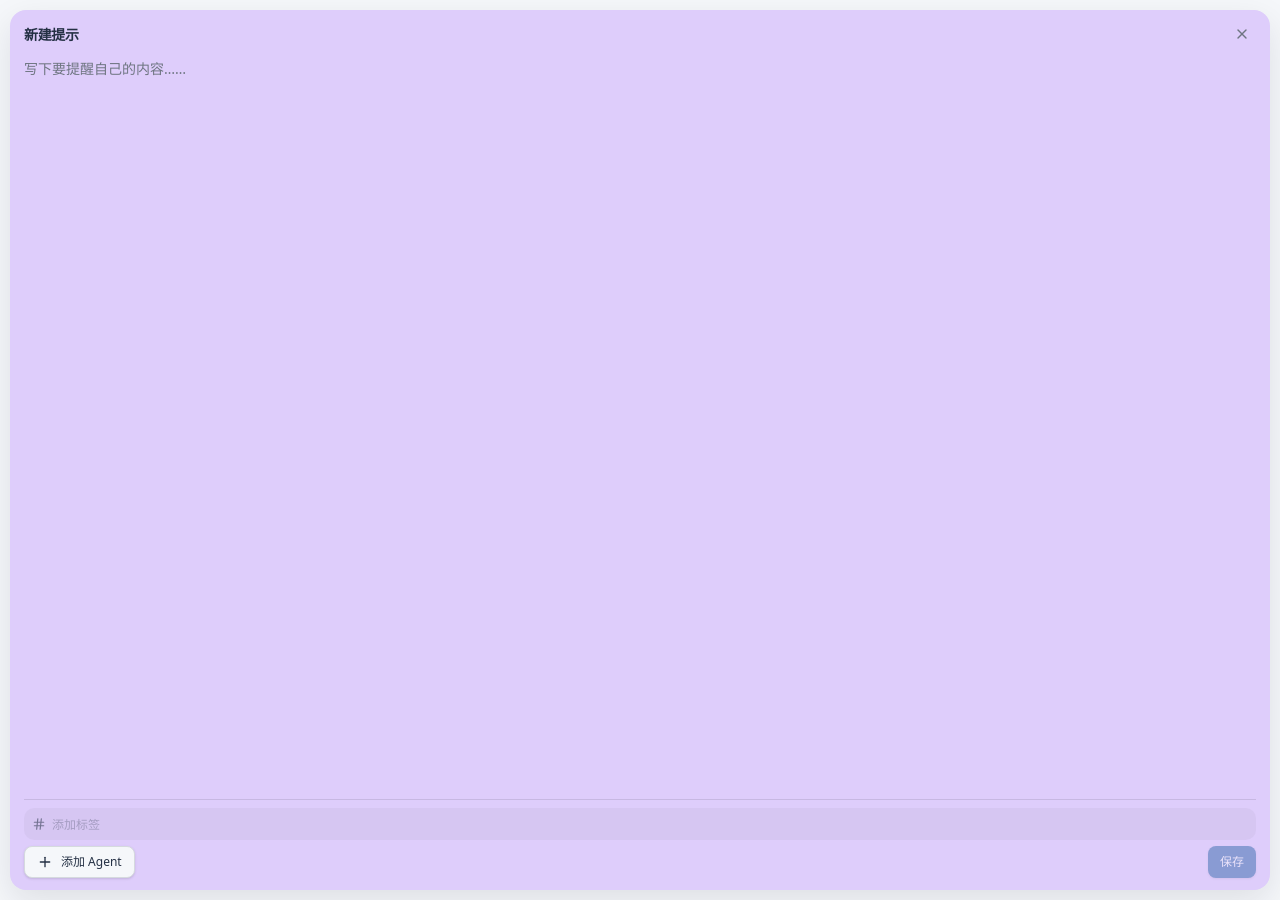
Test: 快捷新建窗口 › disabled_agents_are_not_offered_for_new_bindings
The image size is (1280, 900).
Click the button "添加 Agent": point(79, 862) [24,846,135,878]
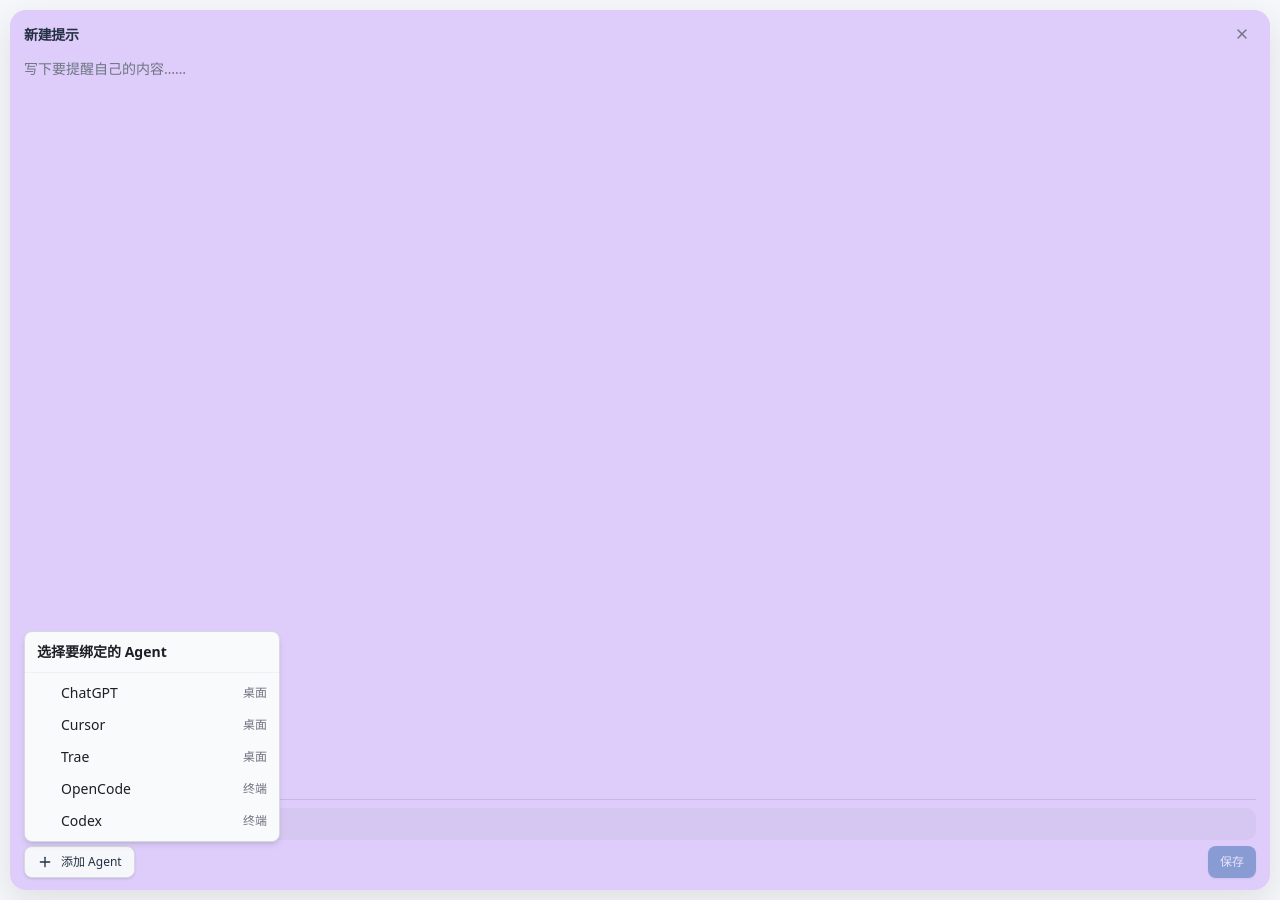
Expected: the menu item "Cursor 桌面" is shown, [61,715,267,734]
